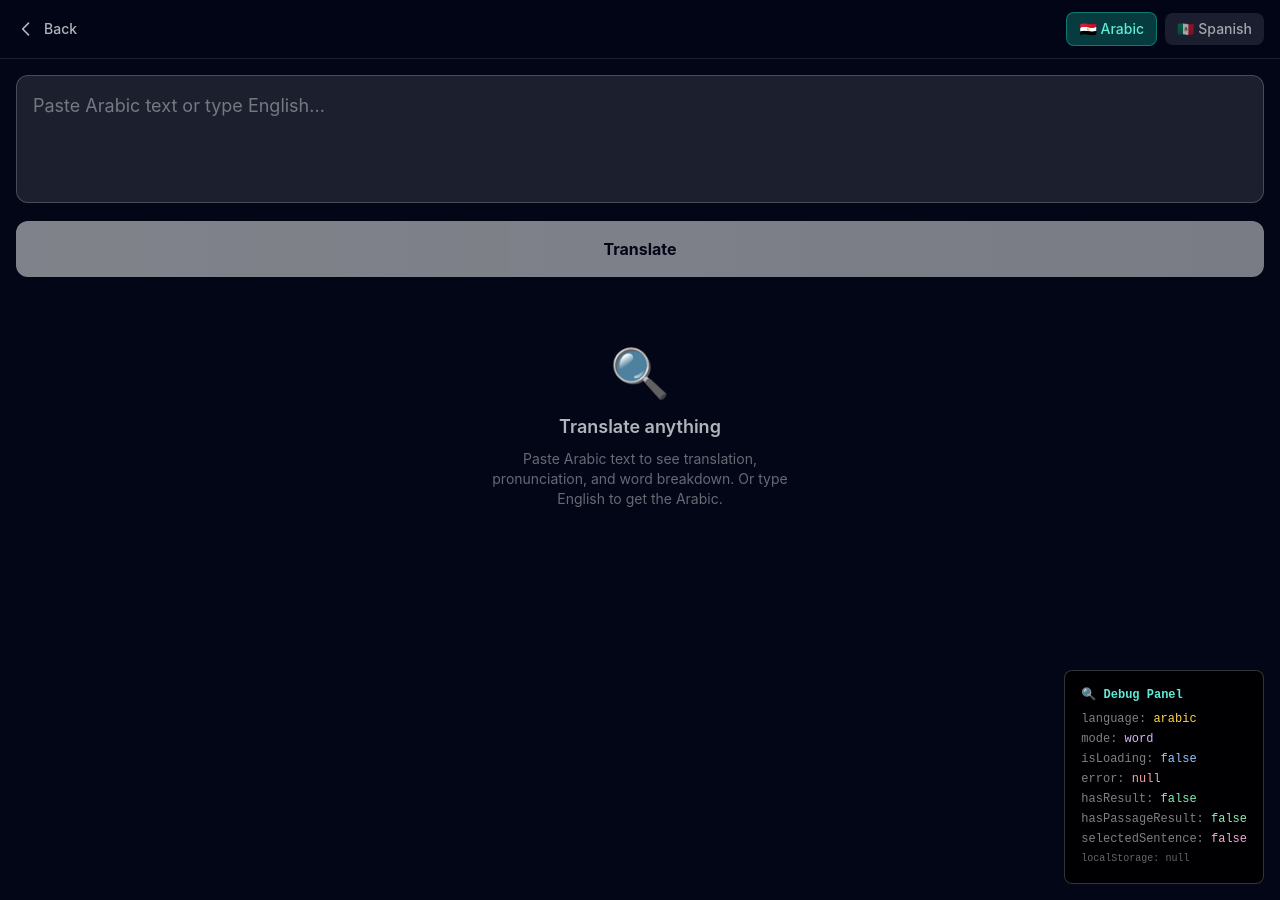
Test case: LookupView › Translate button › displays error message when translation fails
Step 1. Type "Hello world" into the text box with placeholder "Paste Arabic text or type English..." → point(640, 139), box [16,75,1264,203]
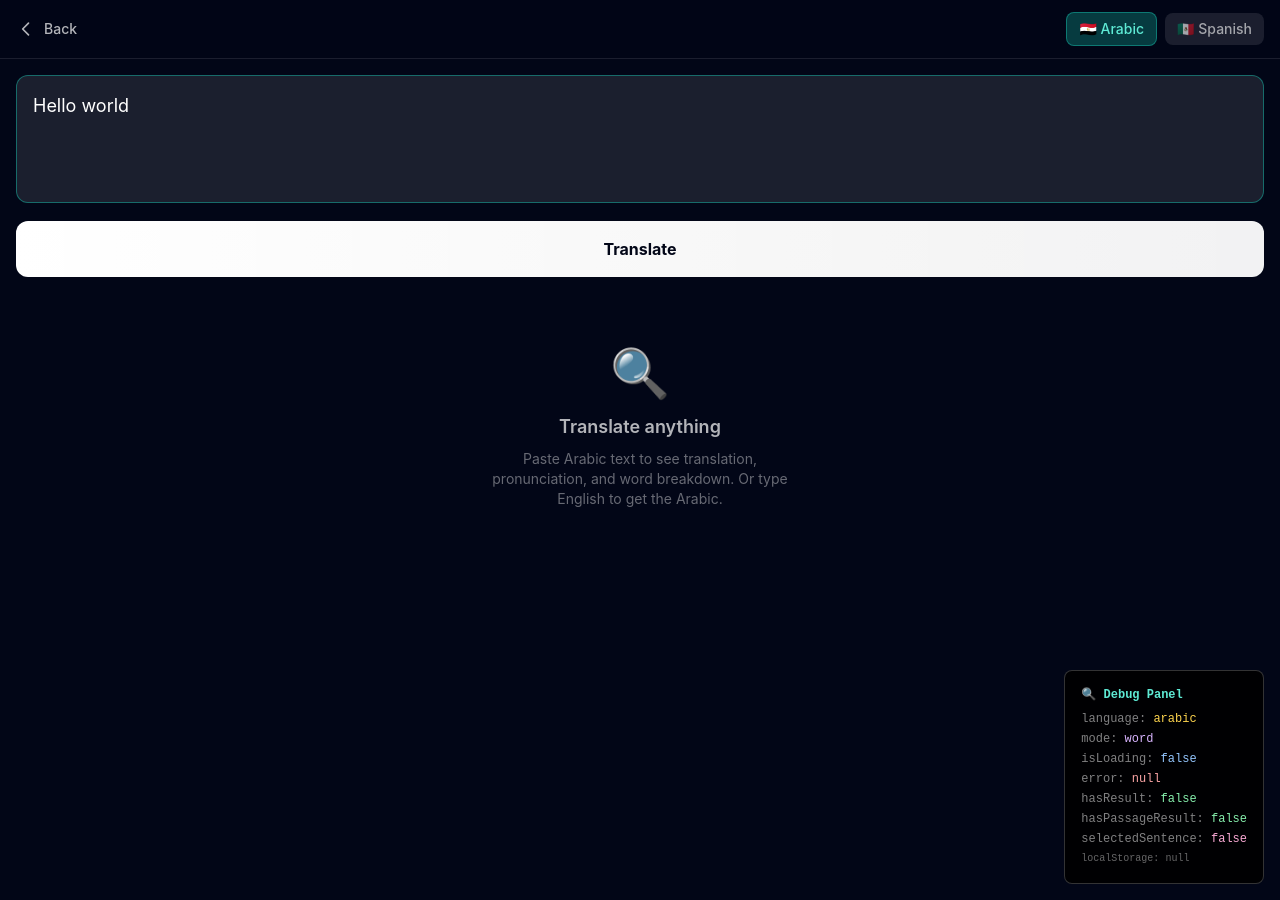
Step 2. Click the button "Translate" → point(640, 249), box [16,221,1264,277]
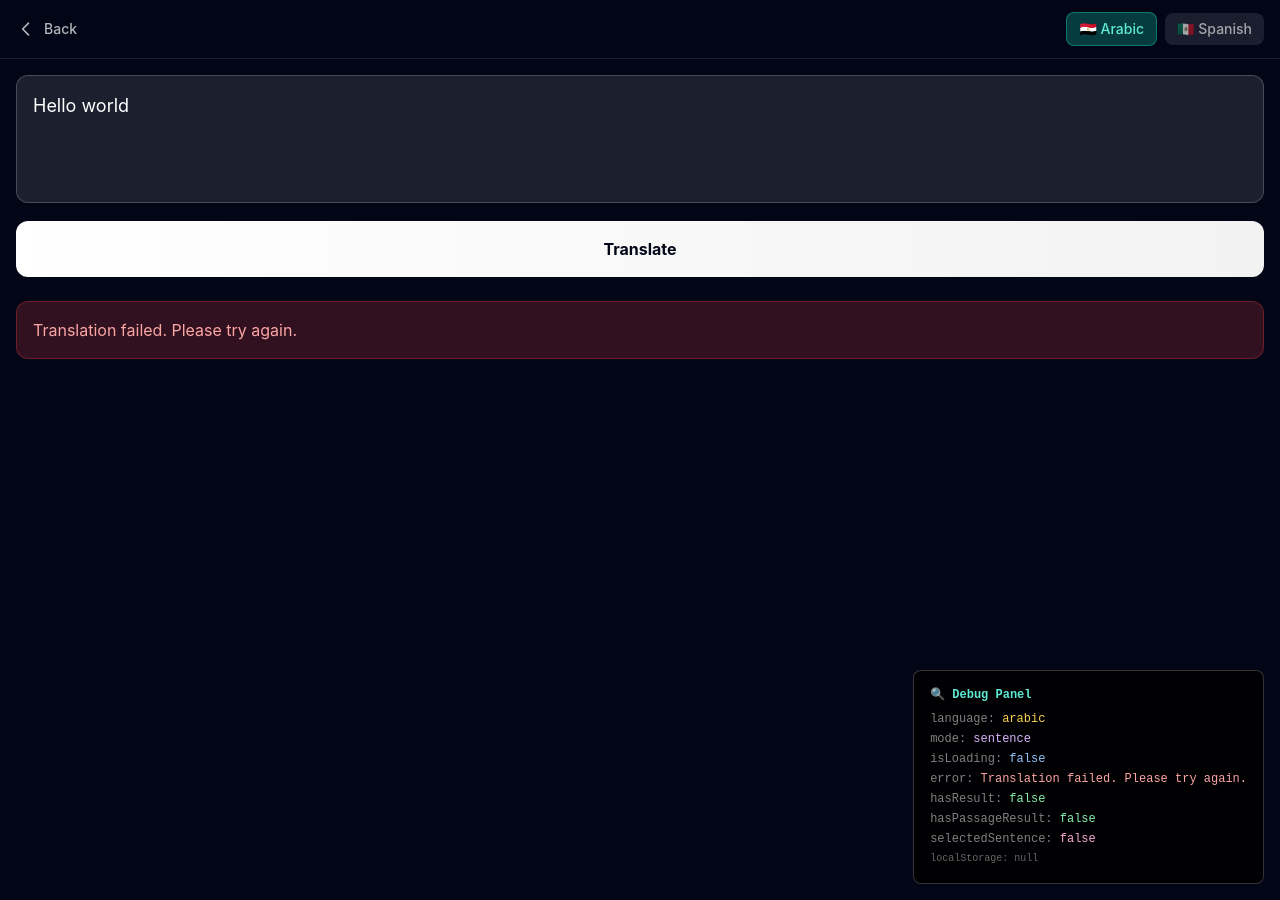
Expected: the 1st text "Translation failed. Please try again." is shown, [16,301,1264,359]
